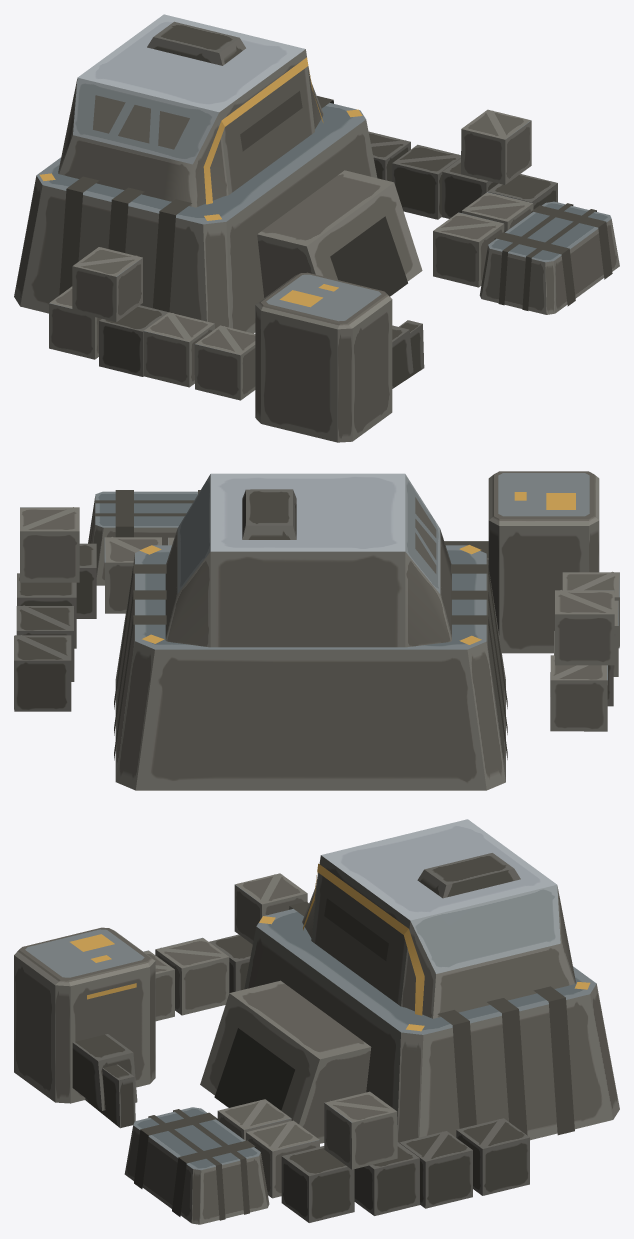
File: warehouse2.FBX
3 views of the same model, one above another, from view 1: azimuth 30°, elevation 25°; view 2: azimuth 150°, elevation 25°; view 3: azimuth 270°, elevation 25° (orthographic). The views are drawn at different scales.
Visible parts, largest first — view 1: Warehouse_lv2, c, b, a; view 2: Warehouse_lv2, c; view 3: Warehouse_lv2, b, c, a.
Boxes of the visible parts, <box> form: Warehouse_lv2: <box>14,14,619,442</box>; c: <box>147,21,245,65</box>; b: <box>392,325,413,386</box>; a: <box>392,320,424,388</box>; Warehouse_lv2: <box>14,471,619,790</box>; c: <box>242,489,296,539</box>; Warehouse_lv2: <box>14,819,619,1224</box>; b: <box>72,1034,137,1110</box>; c: <box>417,853,520,898</box>; a: <box>85,1064,135,1128</box>.
Bounding box in the file's own units: 158 × 155 × 66.72.
